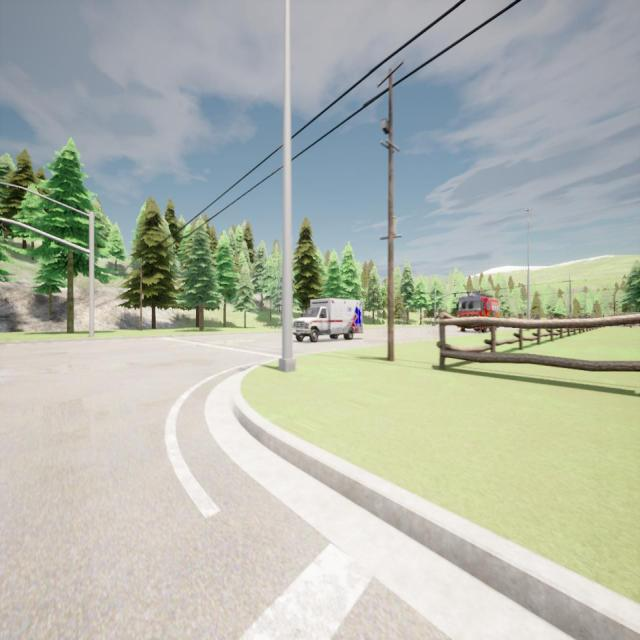Vehicle: (292, 298, 362, 342), (457, 295, 500, 333)
